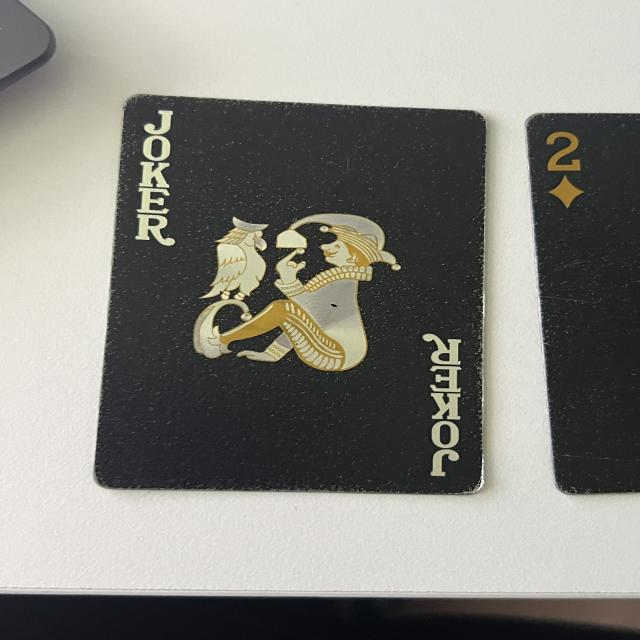2D: (543, 126, 587, 210)
BLACK JOKER: (420, 331, 475, 490), (134, 105, 188, 252)
